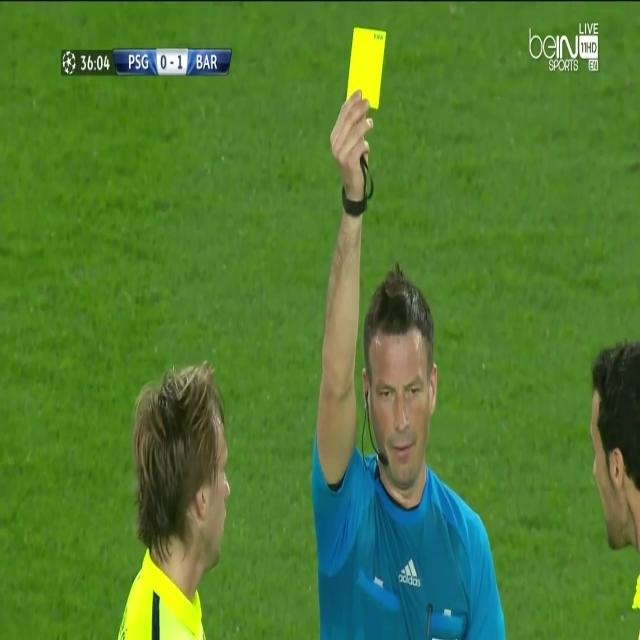Player: (113, 360, 234, 640), (589, 339, 640, 610)
Referee: (308, 26, 507, 640)
